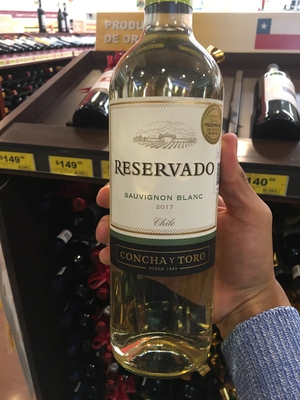reservado sauvignon blanc: (101, 5, 239, 381)
